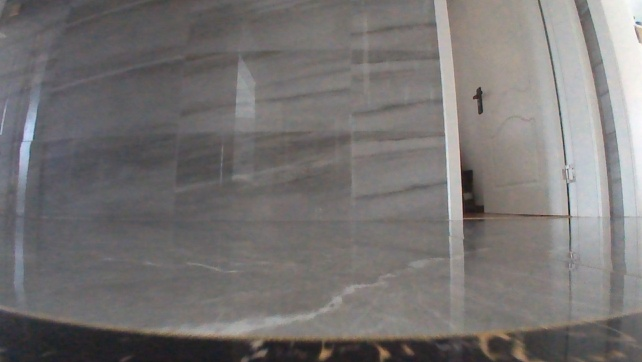door_anno: (465, 0, 612, 221)
